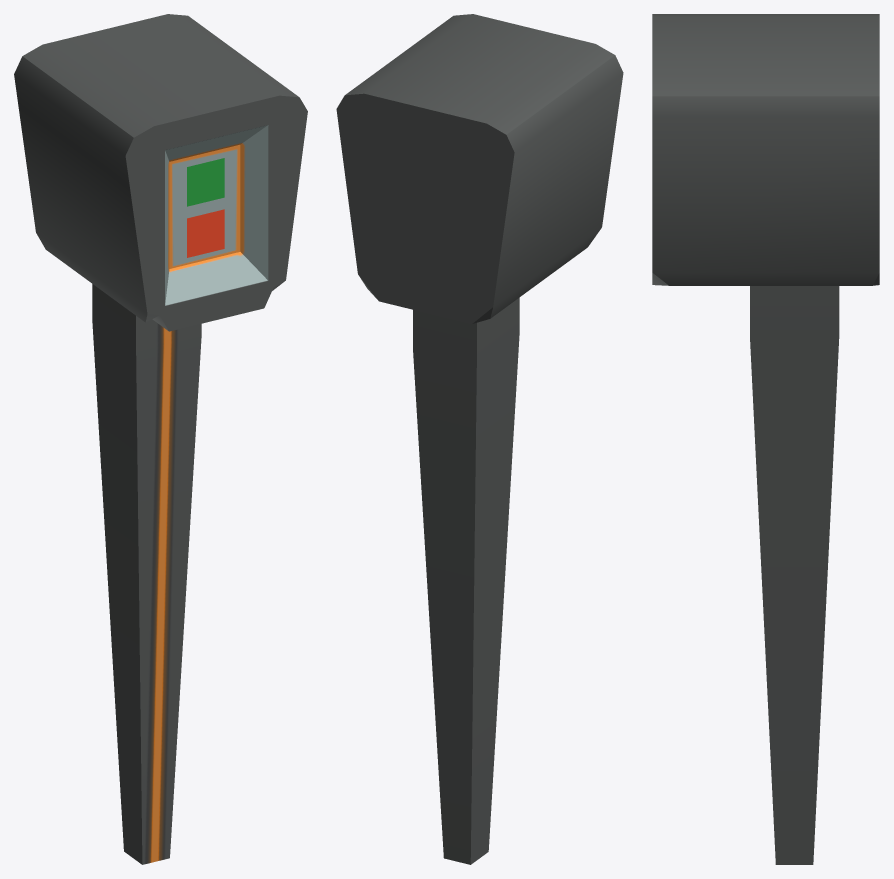
File: buttonStand.fbx
3 views of the same model, side by side, from view 1: azimuth 30°, elevation 25°; view 2: azimuth 150°, elevation 25°; view 3: azimuth 270°, elevation 25° (orthographic). The views are drawn at different scales.
Visible parts, largest first — view 1: Cube.001, Plane.003, Plane.004; view 2: Cube.001; view 3: Cube.001.
Boxes of the visible parts, box(x1,y1,x2,y2) form: Cube.001: box(14, 14, 307, 864); Plane.003: box(187, 158, 224, 206); Plane.004: box(187, 209, 224, 257); Cube.001: box(336, 14, 623, 864); Cube.001: box(652, 14, 879, 864).
Bounding box in the file's own units: 293 × 1220 × 310.
